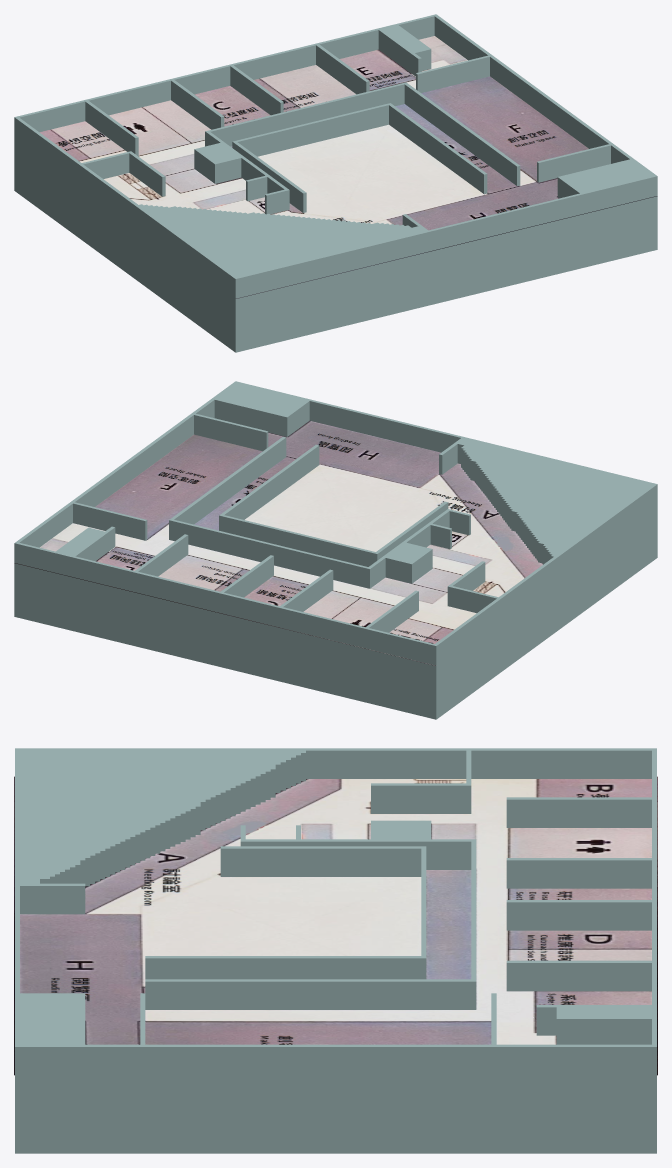
File: Dah-Hsian-Library-5F-cube.glb
3 renders of one model, top to bottom at view 1: azimuth 30°, elevation 25°; view 2: azimuth 150°, elevation 25°; view 3: azimuth 270°, elevation 25°, orthographic. The views are drawn at different scales.
Visible parts, largest first — view 1: Cube, Plane; view 2: Cube, Plane; view 3: Cube, Plane.
Boxes of the visible parts, x1=… form: Cube: x1=14, y1=14, x2=657, y2=352; Plane: x1=40, y1=36, x2=657, y2=298; Cube: x1=14, y1=381, x2=657, y2=719; Plane: x1=14, y1=420, x2=542, y2=665; Cube: x1=15, y1=748, x2=656, y2=1153; Plane: x1=14, y1=776, x2=657, y2=1075.
Size of the model in its own units: 18 by 3 by 16.4.
2 materials, 1 textured.
